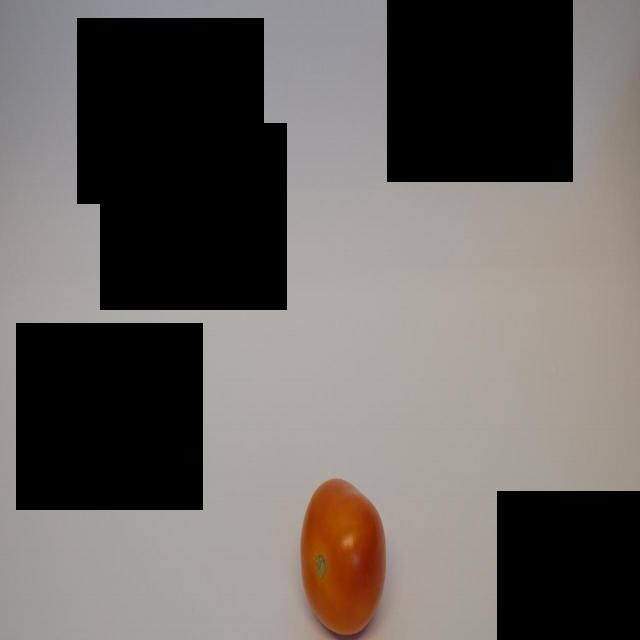tomato: (296, 468, 392, 638)
